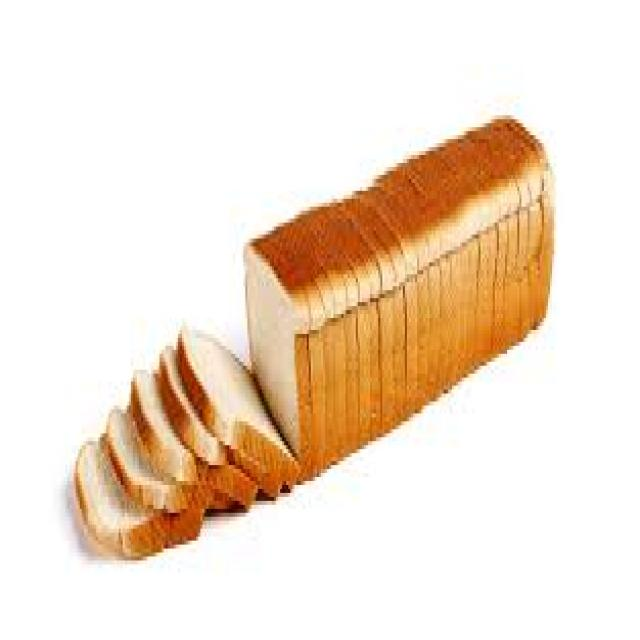Bread: (179, 332, 299, 495), (248, 245, 301, 456), (75, 440, 152, 553), (108, 411, 188, 512), (159, 350, 226, 465), (131, 374, 195, 485)
